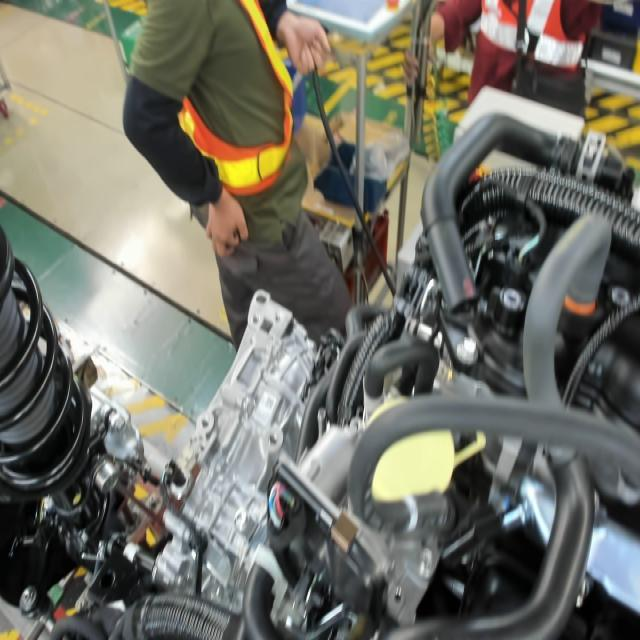Tube Sub Assy Fuel-W: (394, 490, 423, 537)
